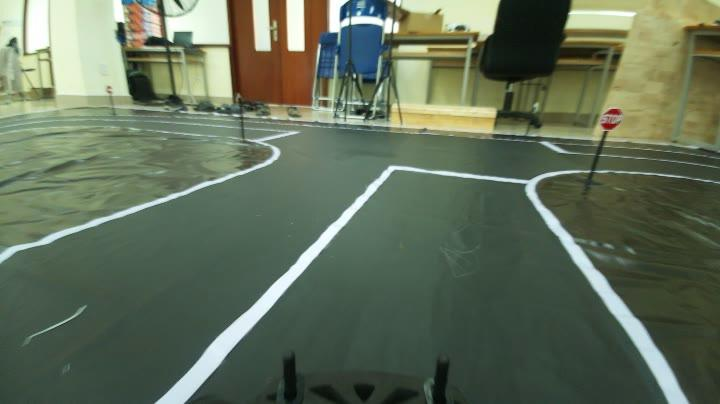stop: (598, 104, 626, 136)
